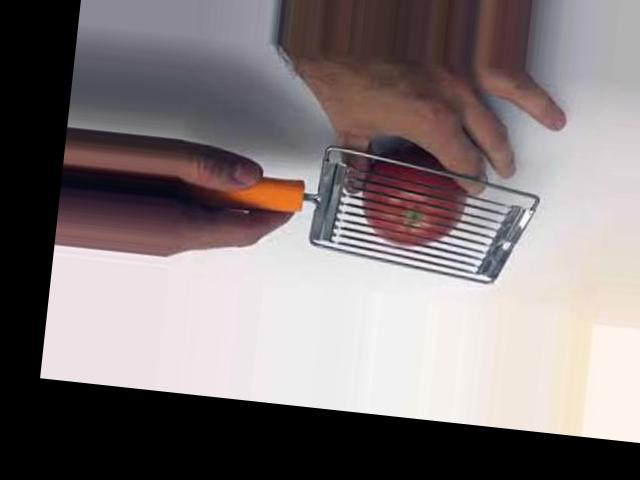tomato: (355, 145, 467, 250)
